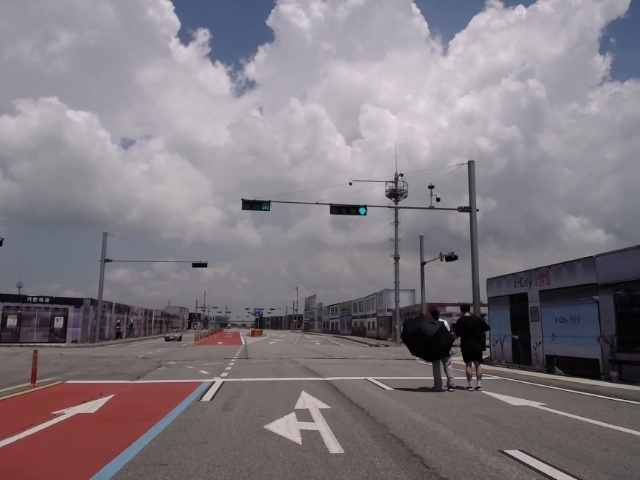straight_green_4: (331, 204, 368, 216)
